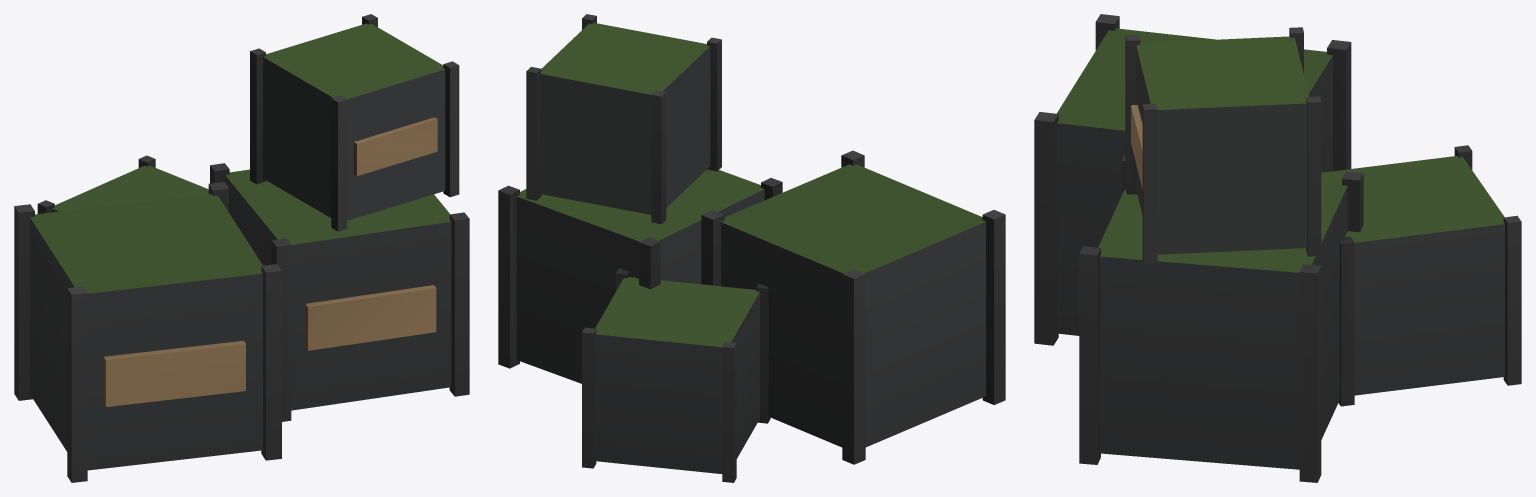
The model's file is obj_cajas_3.glb.
The picture shows the model from 3 angles, left to right: view 1: azimuth 30°, elevation 25°; view 2: azimuth 150°, elevation 25°; view 3: azimuth 270°, elevation 25°; orthographic projection. The views are drawn at different scales.
Visible parts, largest first — view 1: propforge-libre-cajas; view 2: propforge-libre-cajas; view 3: propforge-libre-cajas.
Boxes of the visible parts, x1,y1,x2,y2 form: propforge-libre-cajas: [14, 14, 469, 482]; propforge-libre-cajas: [498, 14, 1005, 482]; propforge-libre-cajas: [1034, 14, 1521, 482].
Bounding box in the file's own units: 1.11 × 0.7663 × 0.931.
